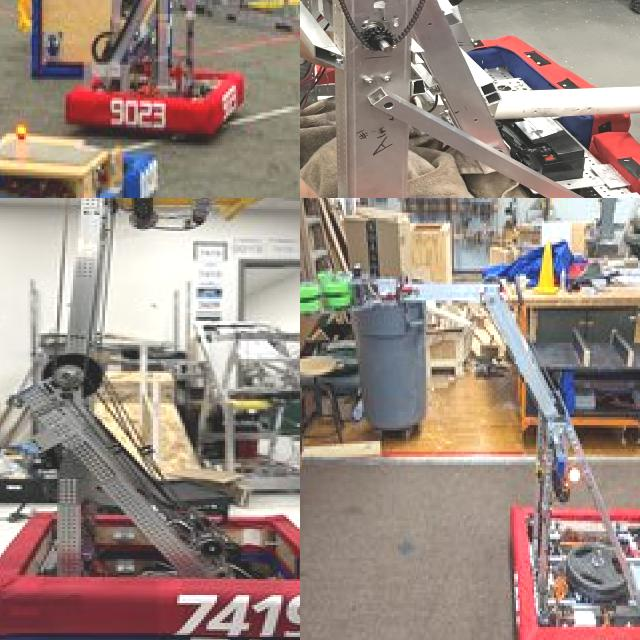FRC-Robots: (0, 198, 300, 640), (300, 256, 640, 640), (300, 0, 640, 198), (73, 0, 264, 150), (1, 0, 173, 95), (0, 98, 157, 198)
